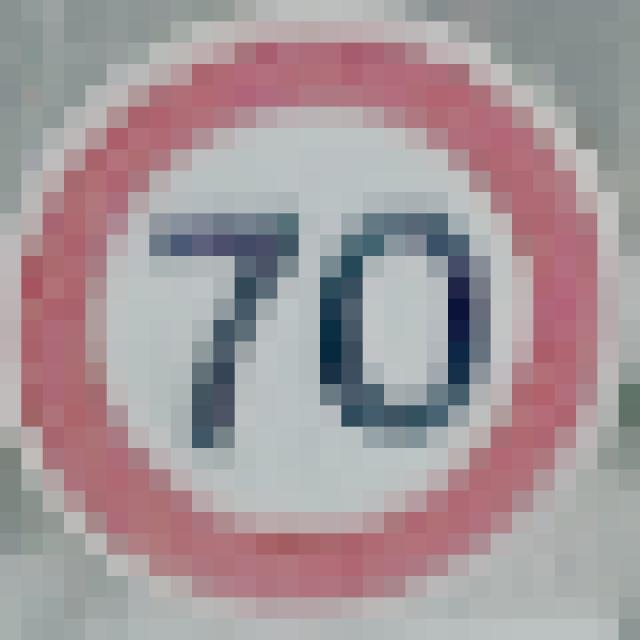speed_70: (0, 0, 619, 619)
